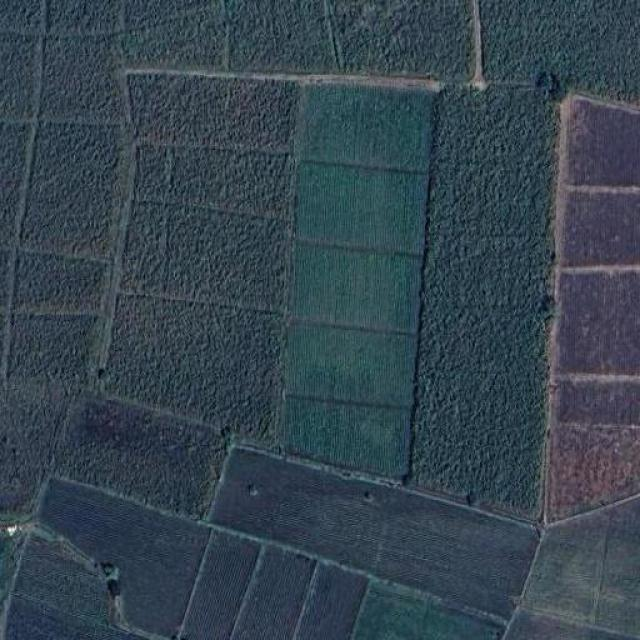land-Sx1C: (409, 86, 555, 516), (210, 448, 538, 617), (126, 0, 474, 81), (40, 480, 210, 637), (105, 298, 280, 441), (55, 395, 226, 517), (502, 496, 640, 639), (504, 496, 640, 639), (125, 202, 285, 309), (480, 0, 640, 102), (4, 530, 145, 640), (130, 74, 298, 153), (22, 125, 118, 256), (298, 85, 432, 173), (296, 162, 425, 253), (136, 148, 290, 219), (296, 247, 418, 332), (0, 386, 80, 513), (286, 398, 408, 478), (289, 325, 411, 404), (548, 422, 640, 519), (182, 531, 260, 640), (352, 582, 501, 639), (559, 272, 640, 372), (232, 546, 314, 639), (561, 96, 640, 184), (124, 0, 225, 68), (41, 35, 116, 124), (12, 316, 103, 388), (561, 187, 640, 266), (16, 251, 106, 313), (296, 564, 366, 639), (560, 375, 640, 423), (0, 122, 29, 241), (0, 34, 35, 117), (50, 0, 116, 32), (0, 0, 40, 32)
